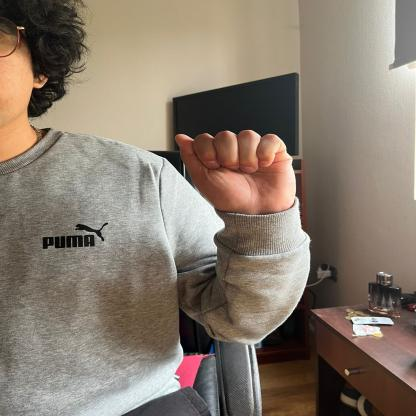A: (169, 126, 303, 214)
